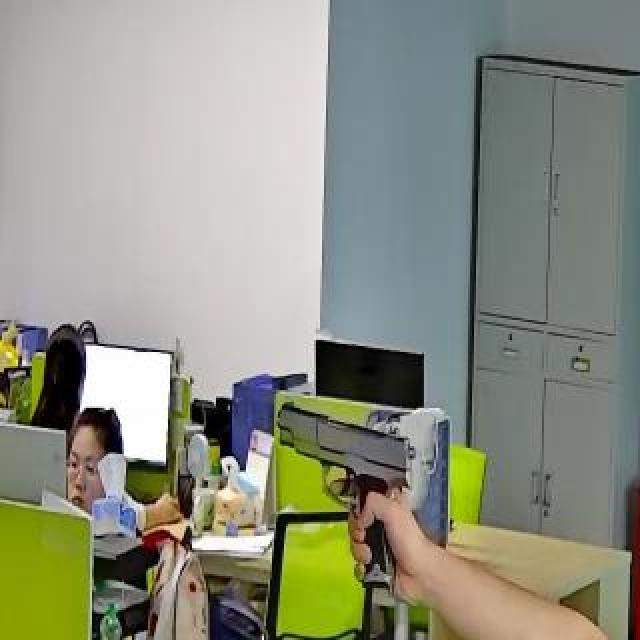Guns: (273, 358, 457, 600)
